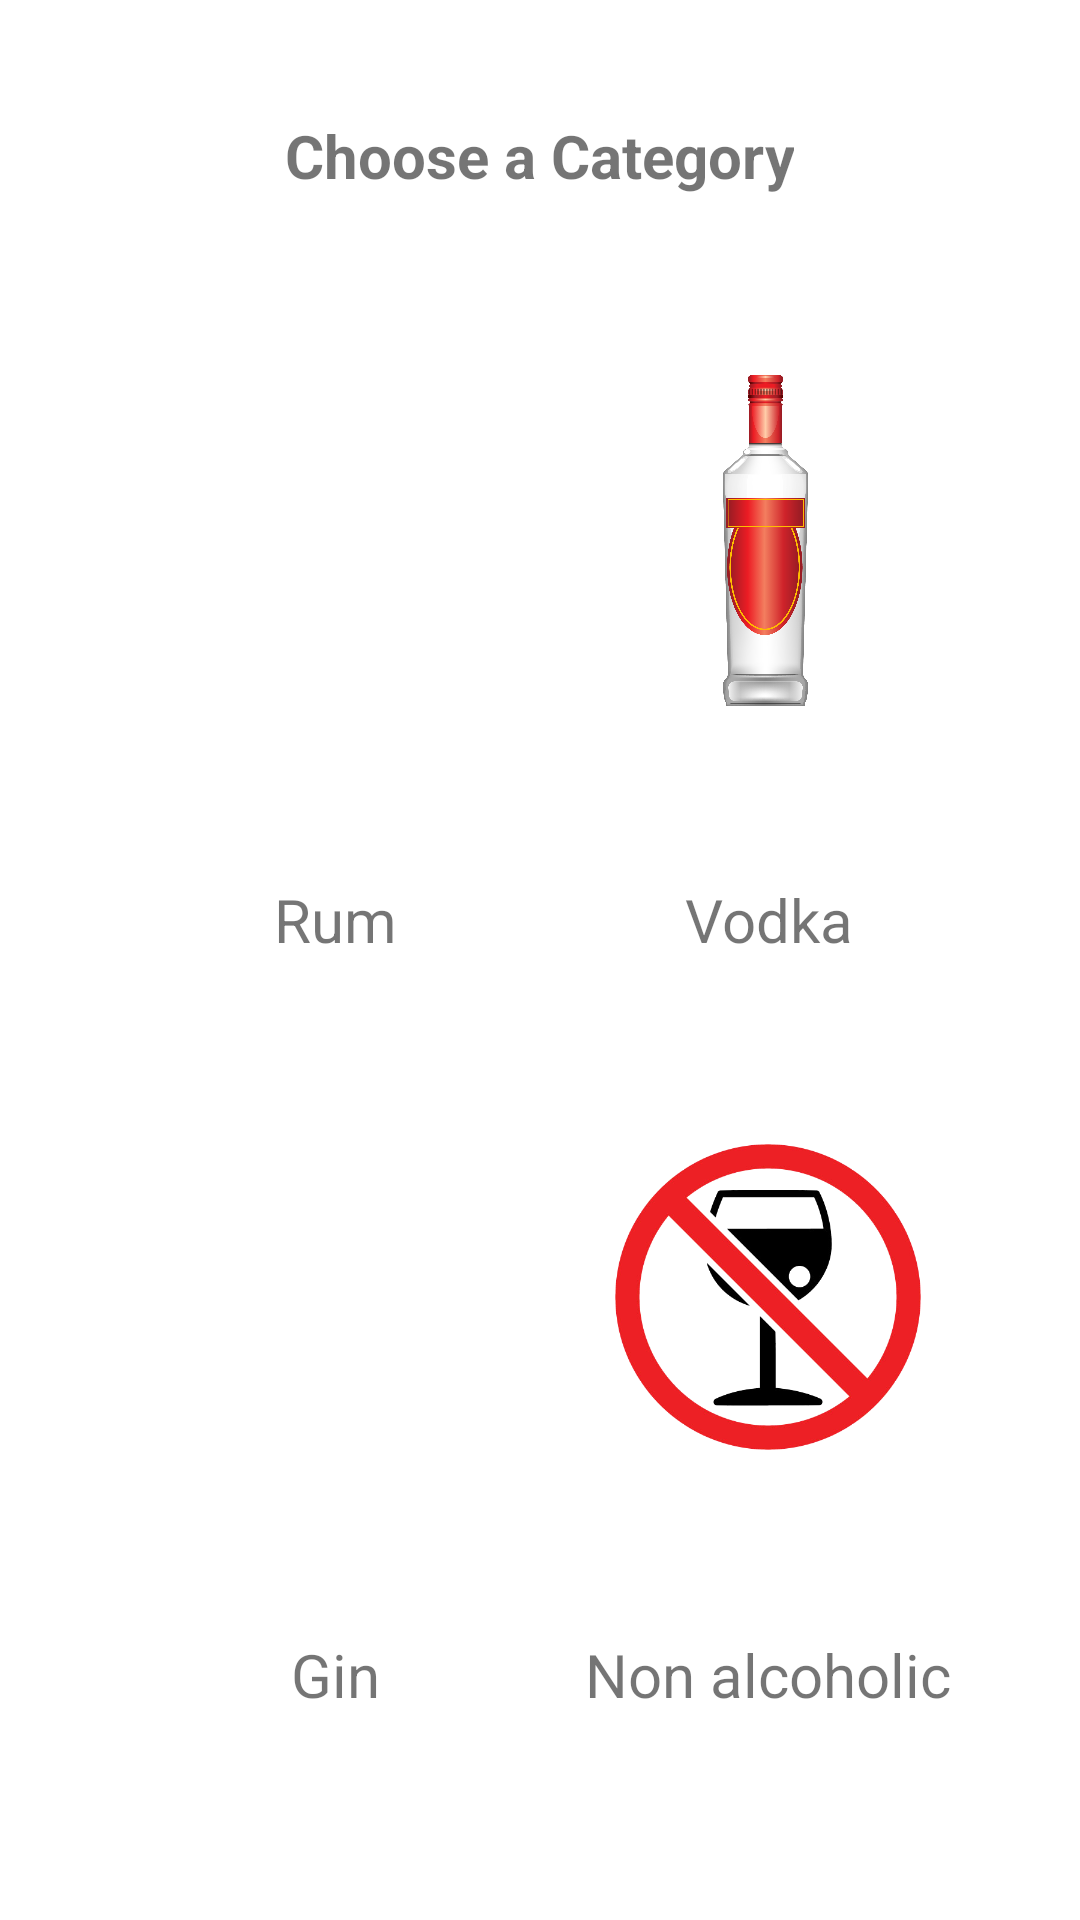

Icon click points for this 1080 x 1920 phone screenshot, format (x=x, y=y):
Non-alcoholic: (x=768, y=1297)
Vodka: (x=765, y=540)
